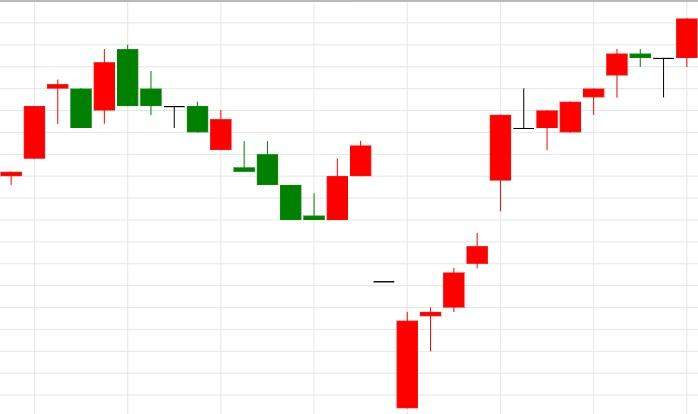morning_star_rise: (116, 43, 349, 221)
three_white_soldiers_rise: (349, 140, 466, 409)
